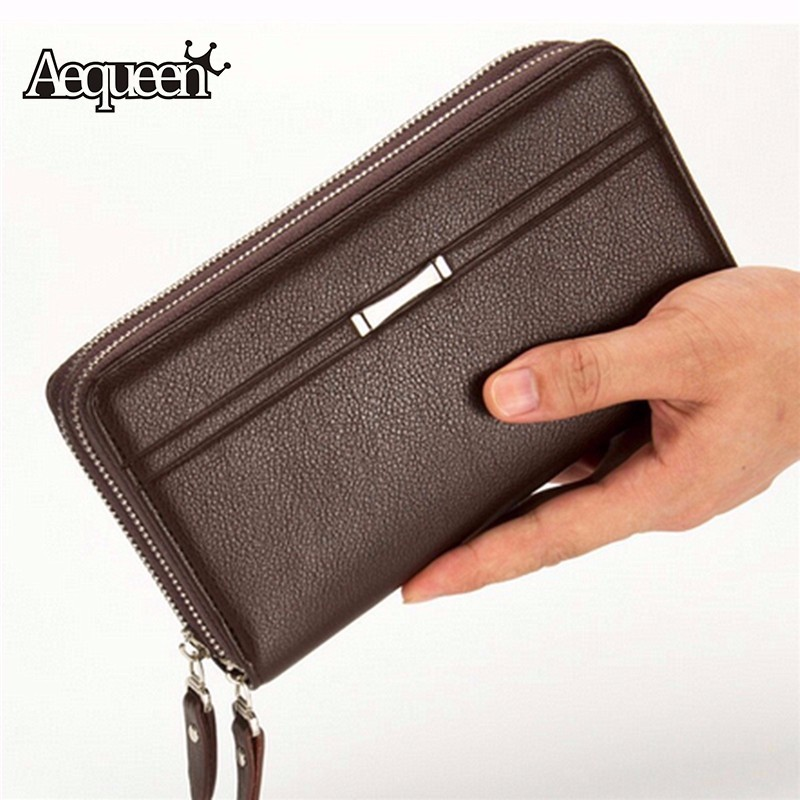monedero: (43, 35, 744, 697)
